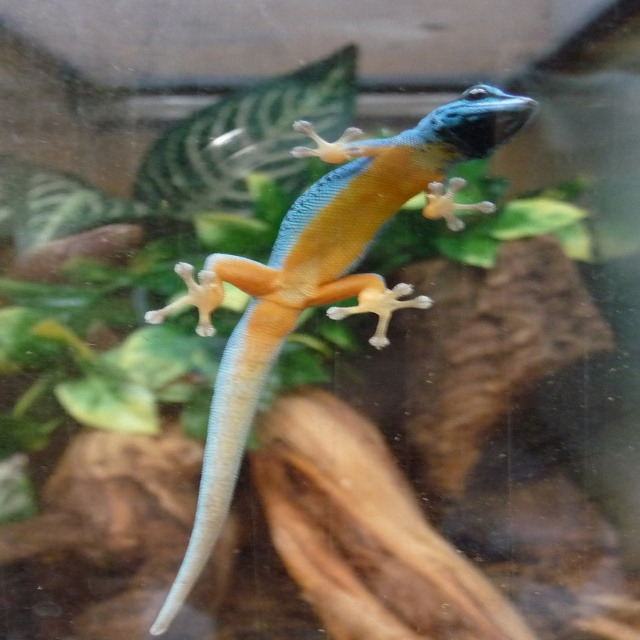Lizard: (143, 85, 539, 635)
